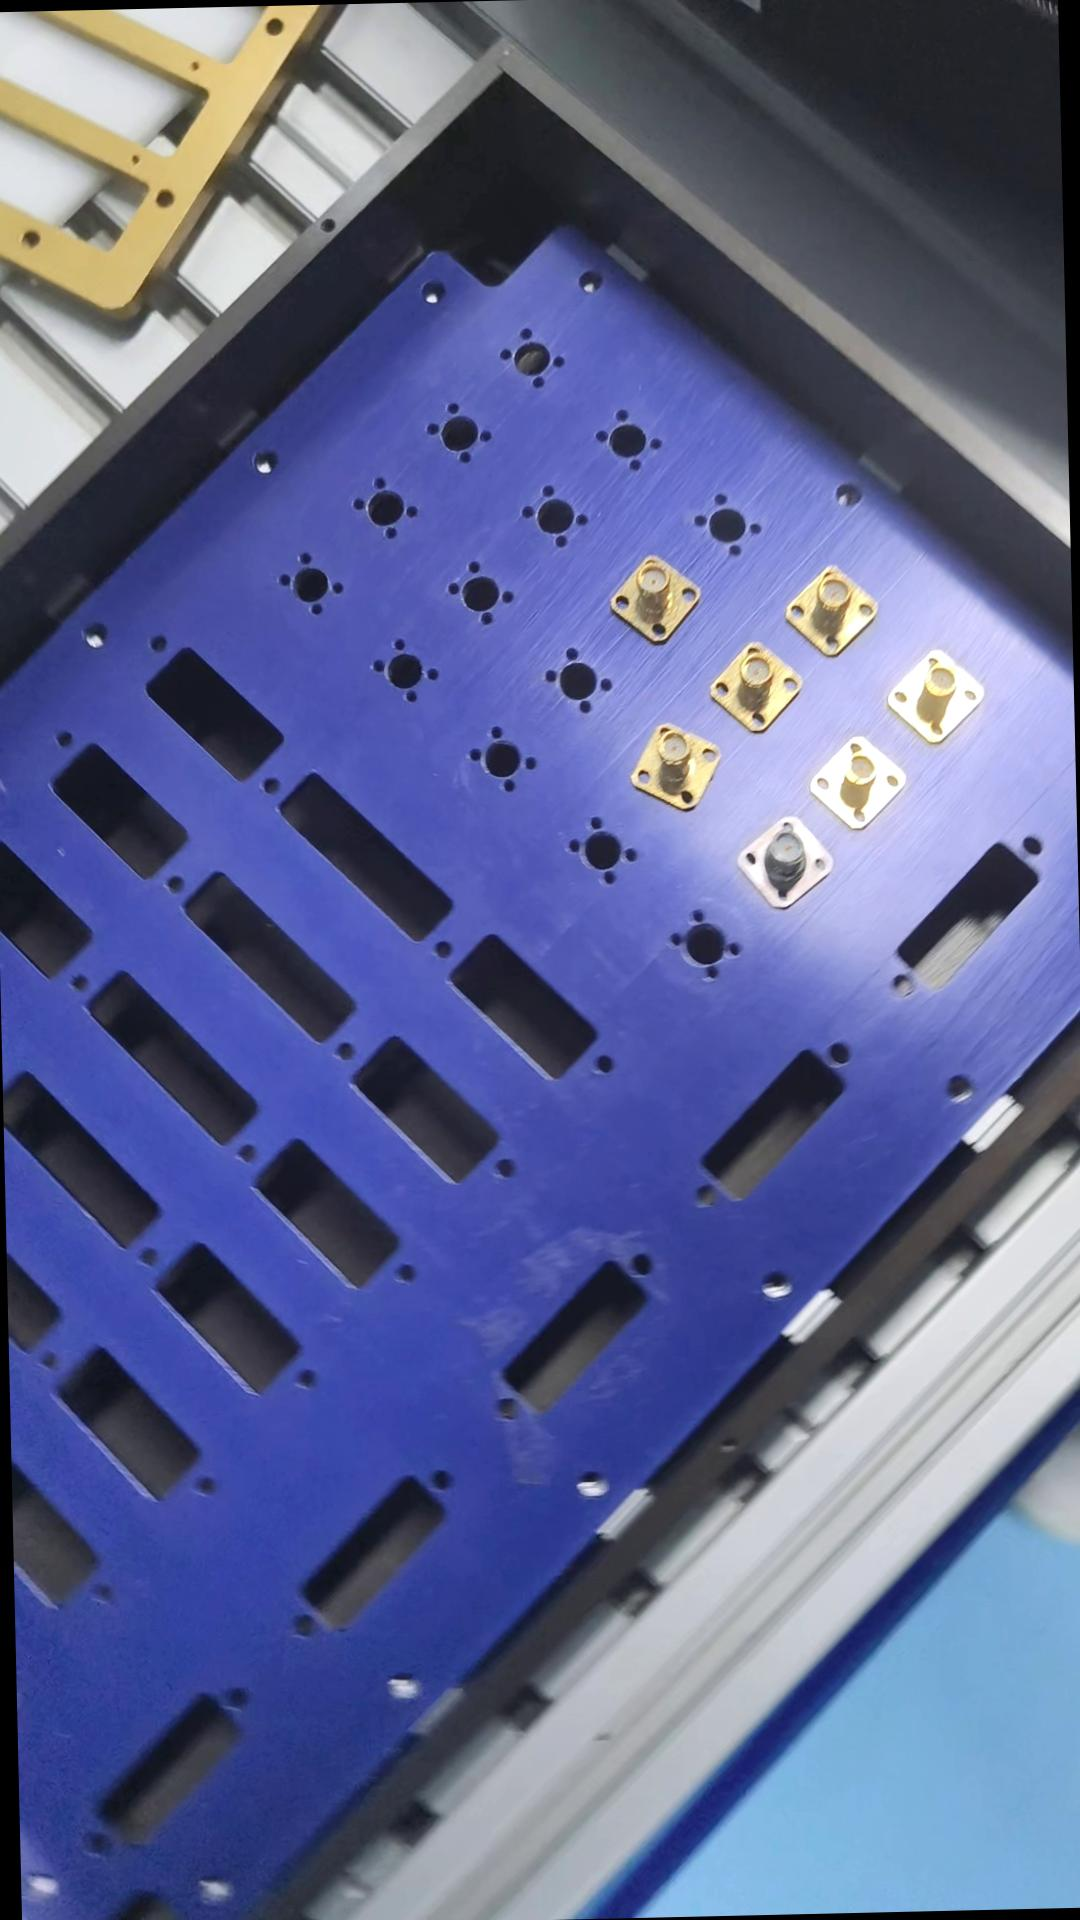SMA: (884, 645, 986, 742), (733, 808, 831, 903), (703, 638, 796, 736), (803, 735, 903, 825), (783, 564, 878, 655), (625, 719, 719, 808), (607, 553, 699, 640)
